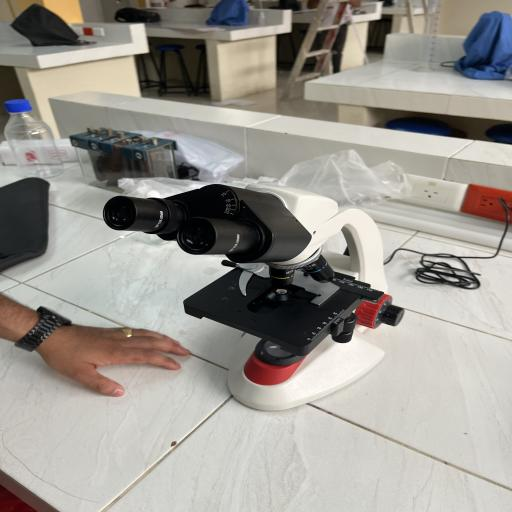Microscopio_Binocular: (91, 171, 414, 418)
